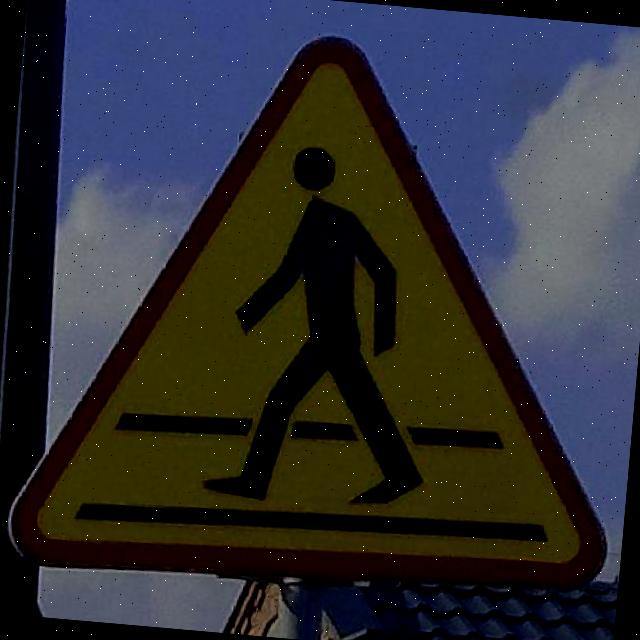Przejscie dla pieszych: (2, 8, 640, 615)
